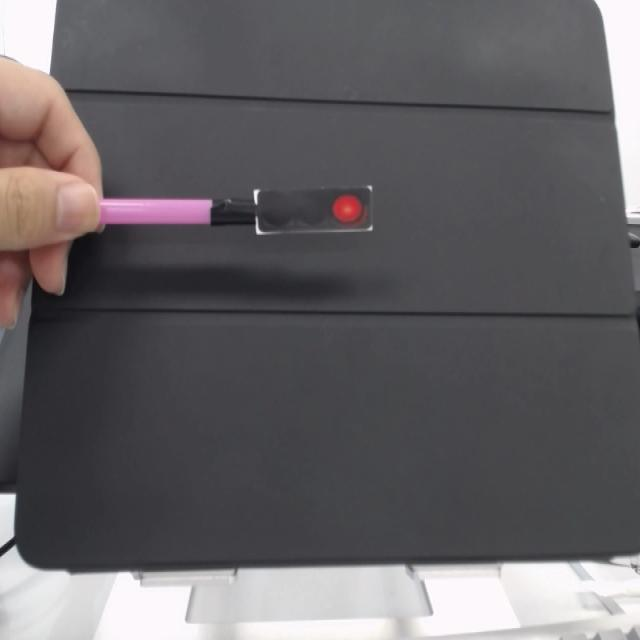traffic light: (251, 183, 379, 247)
